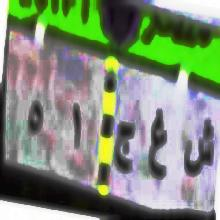1: (71, 100, 83, 156)
5: (27, 96, 46, 144)
ghayn: (149, 102, 168, 186)
jeem: (114, 116, 135, 183)
sheen: (181, 114, 214, 184)
